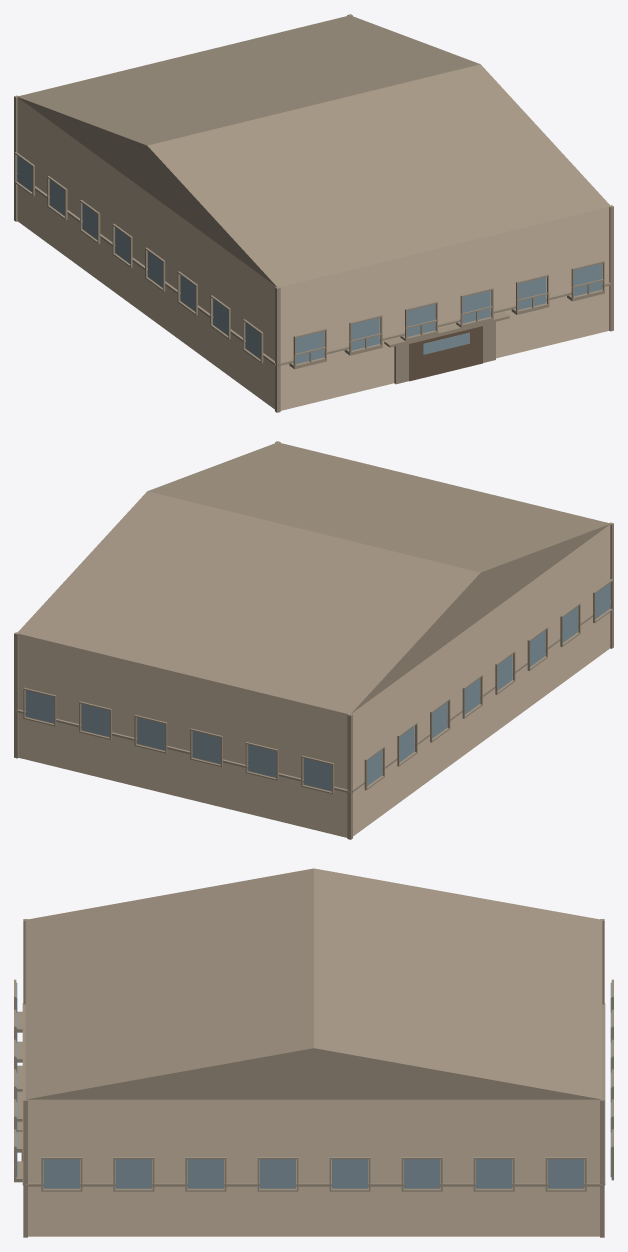
Rendered from lot_3x4_gable.glb.
The picture shows the model from 3 angles, top to bottom: view 1: azimuth 30°, elevation 25°; view 2: azimuth 150°, elevation 25°; view 3: azimuth 270°, elevation 25°; orthographic projection. The views are drawn at different scales.
Parts seen in each view (by area): view 1: lot_3x4_gable; view 2: lot_3x4_gable; view 3: lot_3x4_gable.
Part boxes in pixels (left/top/right/bottom): lot_3x4_gable: left=14, top=14, right=613, bottom=412; lot_3x4_gable: left=14, top=441, right=613, bottom=839; lot_3x4_gable: left=14, top=868, right=613, bottom=1237.
Size of the model in its own units: 23.74 by 11 by 31.74.
